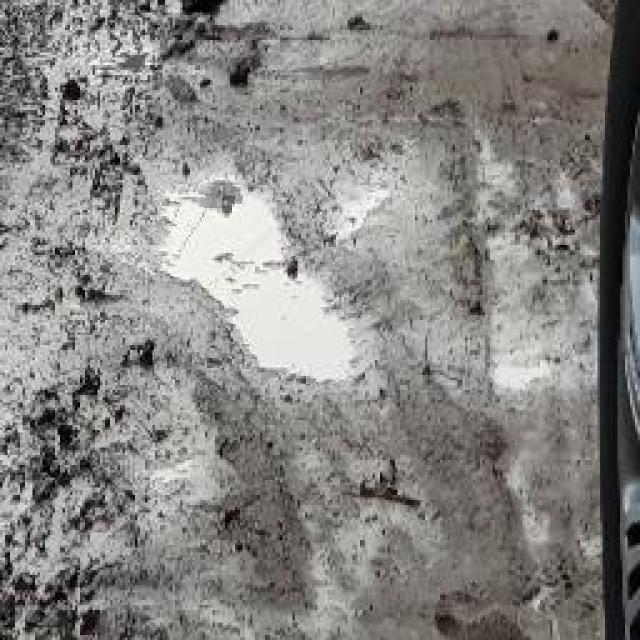puddle: (156, 186, 367, 386)
